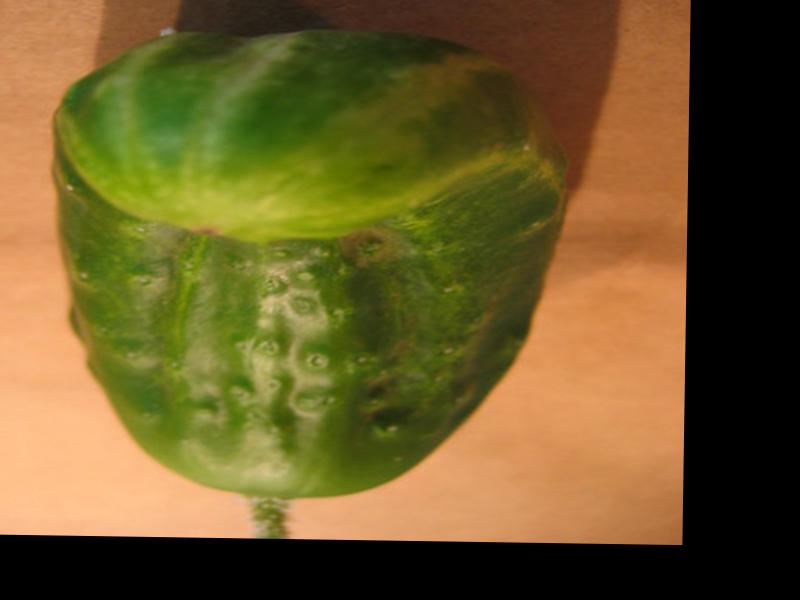Cucumber: (42, 26, 563, 504)
